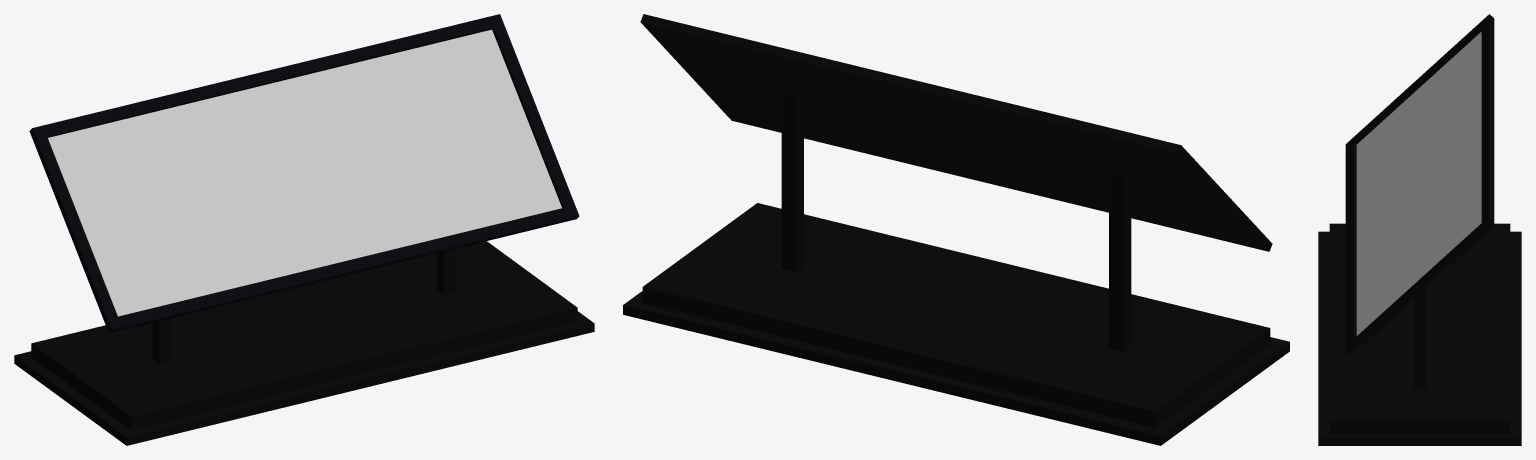
File: standPlain.glb
3 views of the same model, side by side, from view 1: azimuth 30°, elevation 25°; view 2: azimuth 150°, elevation 25°; view 3: azimuth 270°, elevation 25° (orthographic). The views are drawn at different scales.
Visible parts, largest first — view 1: StandPlain; view 2: StandPlain; view 3: StandPlain.
Boxes of the visible parts, bbox=[...] form: StandPlain: bbox=[14, 14, 594, 445]; StandPlain: bbox=[623, 14, 1289, 445]; StandPlain: bbox=[1318, 14, 1521, 445].
Size of what is drawn, in the model's own units: 2.25 by 1.14 by 0.9361.
Materials: 2 (2 with a texture image).
